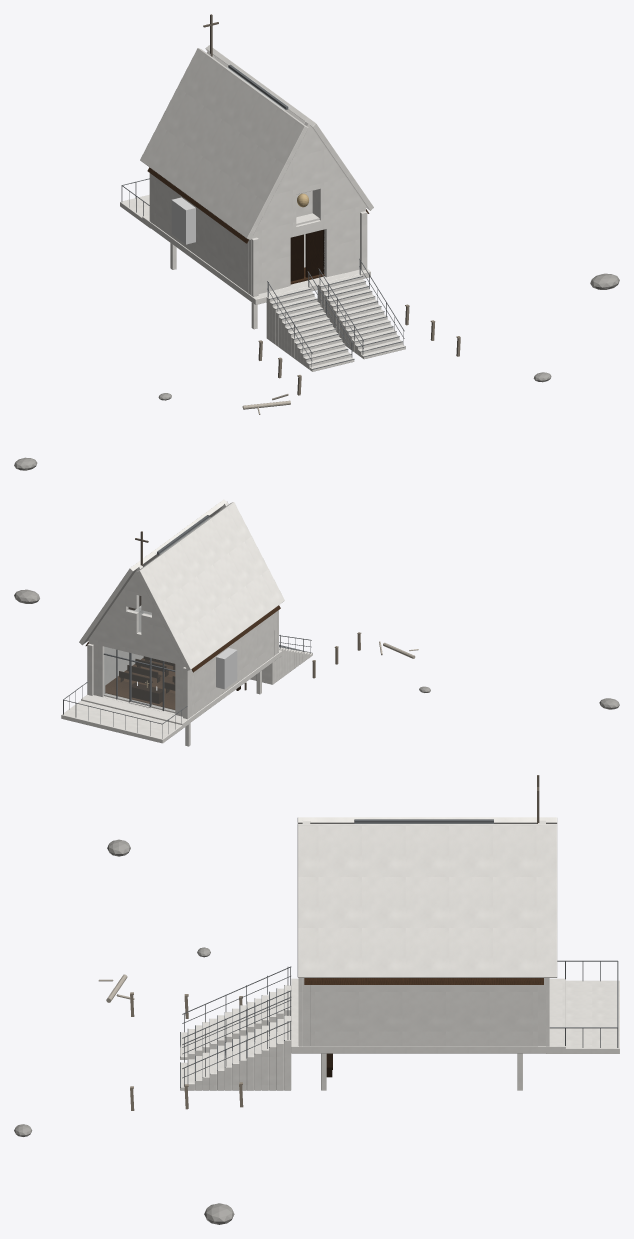
File: chapel.glb
The picture shows the model from 3 angles, top to bottom: view 1: azimuth 30°, elevation 25°; view 2: azimuth 150°, elevation 25°; view 3: azimuth 270°, elevation 25°; orthographic projection. The views are drawn at different scales.
Parts seen in each view (by area): view 1: Roof, GableLand, Stairs, SideWall, StairNosing, Platform, Roof.001, Railings, cutwin, Rocks, Door_R, Door_L (+1 smaller); view 2: Roof, GableSea, SideWall, Terrace_Slab, Platform, Roof.001, SideWall.001, FloorOak, GlassSea, GlassSea.001, GlassSlide, Stairs (+5 smaller); view 3: Roof.001, SideWall.001, Stairs, Terrace_Slab, Platform, Railings, Ceiling.001, Roof, Rocks, StairNosing, RidgeBeam.
Boxes of the visible parts, <box> form: Roof: <box>140,48,308,239</box>; GableLand: <box>248,121,365,295</box>; Stairs: <box>266,274,405,371</box>; SideWall: <box>149,173,258,296</box>; StairNosing: <box>269,276,405,369</box>; Platform: <box>142,215,370,304</box>; Roof.001: <box>205,45,373,210</box>; Railings: <box>121,178,404,367</box>; cutwin: <box>171,197,195,244</box>; Rocks: <box>14,273,619,470</box>; Door_R: <box>305,230,323,277</box>; Door_L: <box>290,234,303,281</box>; Roof: <box>136,502,284,670</box>; GableSea: <box>88,565,191,717</box>; SideWall: <box>183,610,278,719</box>; Terrace_Slab: <box>61,700,189,743</box>; Platform: <box>81,650,281,727</box>; Roof.001: <box>79,499,226,645</box>; SideWall.001: <box>87,606,151,695</box>; FloorOak: <box>105,658,175,709</box>; GlassSea: <box>151,658,174,711</box>; GlassSea.001: <box>104,647,128,700</box>; GlassSlide: <box>130,653,151,705</box>; Stairs: <box>250,647,312,684</box>; Roof.001: <box>297,824,557,977</box>; SideWall.001: <box>298,978,549,1046</box>; Stairs: <box>180,985,291,1090</box>; Terrace_Slab: <box>546,980,619,1053</box>; Platform: <box>291,978,565,1053</box>; Railings: <box>182,960,618,1086</box>; Ceiling.001: <box>304,978,543,984</box>; Roof: <box>297,817,557,823</box>; Rocks: <box>14,839,234,1224</box>; StairNosing: <box>180,985,284,1087</box>; RidgeBeam: <box>354,819,493,823</box>.
Size of the model in its own units: 41.29 by 14.75 by 27.8.
Materials: 14 (5 with a texture image).
